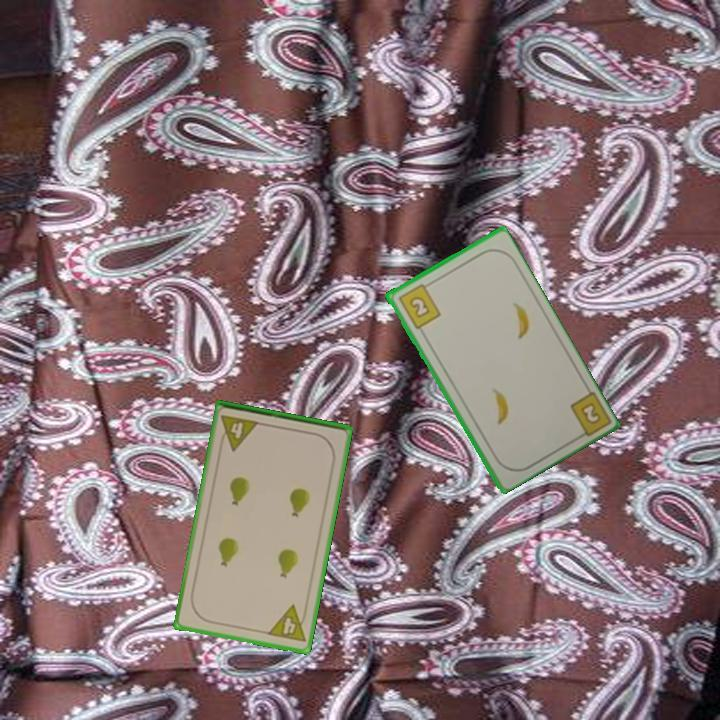2b: (394, 279, 443, 332), (566, 387, 612, 443)
4p: (264, 602, 311, 645), (216, 411, 262, 453)
